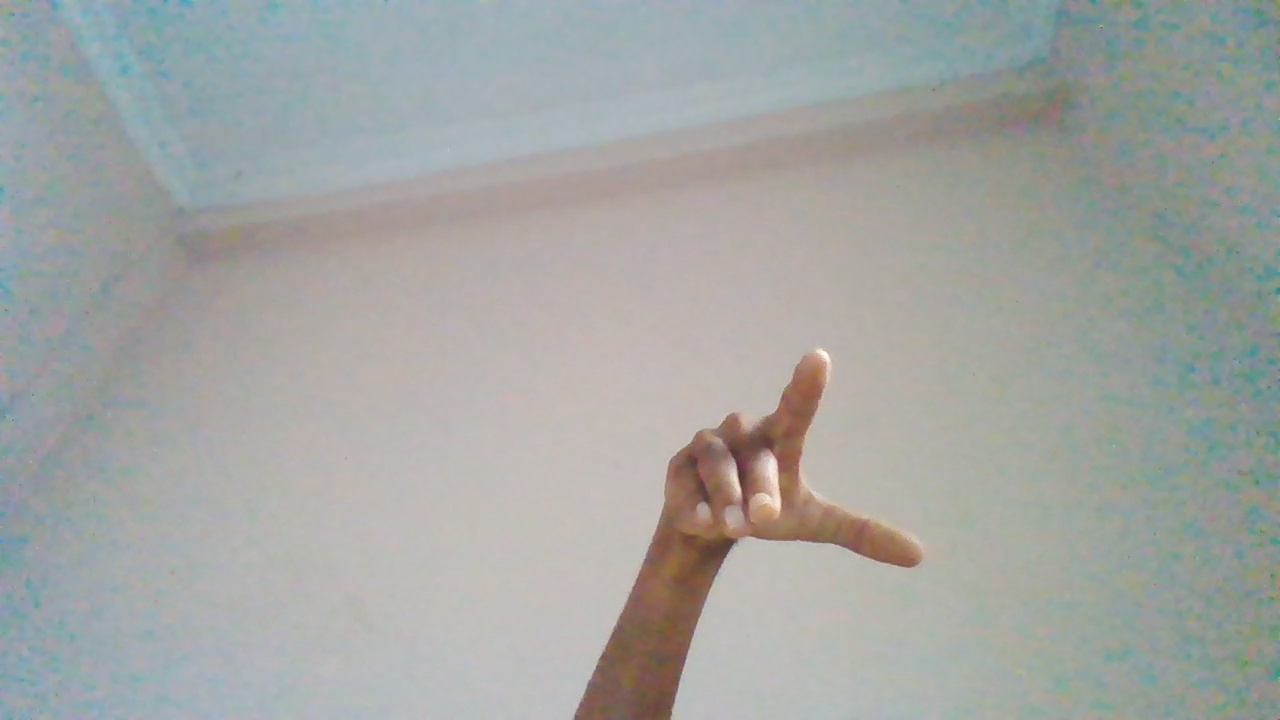ke: (618, 342, 927, 697)
